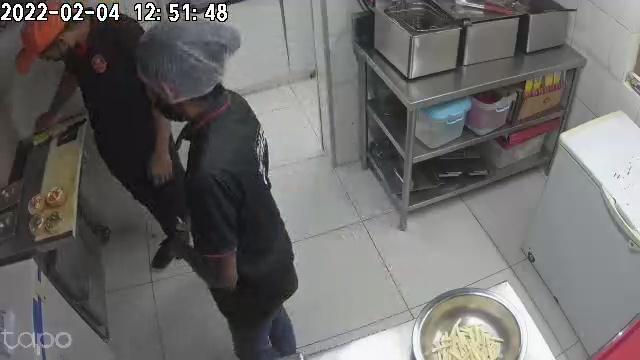no_gloves: (148, 139, 171, 187)
